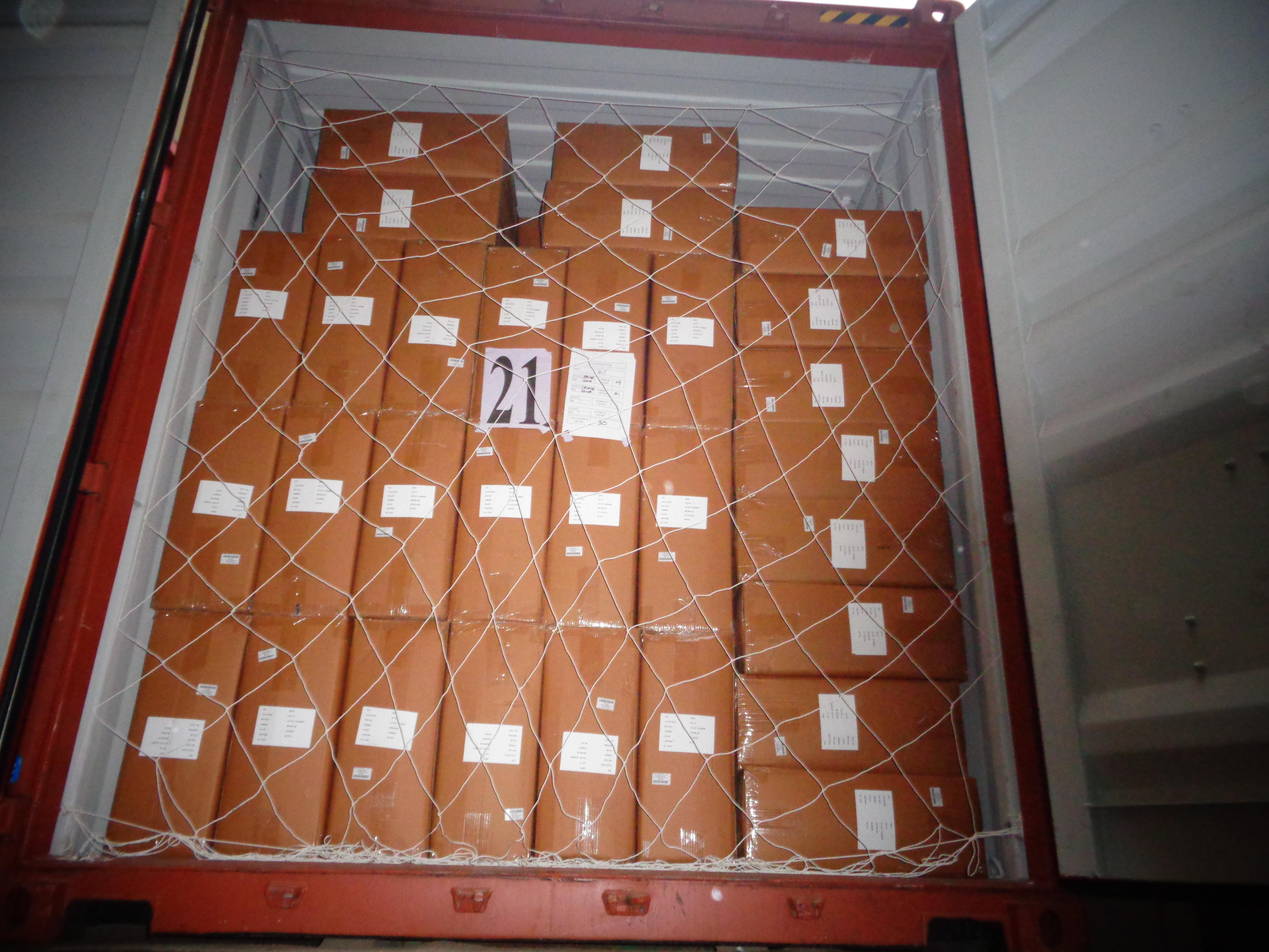carton: (107, 612, 250, 852), (215, 616, 350, 853), (326, 619, 446, 851), (431, 622, 548, 859), (152, 403, 283, 611), (741, 767, 983, 876), (252, 405, 377, 616), (534, 628, 640, 860), (353, 409, 467, 620), (638, 630, 736, 862), (740, 582, 966, 682), (736, 675, 962, 775), (449, 426, 555, 622), (735, 494, 955, 588), (637, 427, 733, 639), (204, 231, 318, 407), (545, 424, 642, 628), (294, 233, 402, 408), (382, 239, 487, 415), (734, 416, 943, 502), (471, 248, 568, 425), (555, 248, 650, 425), (735, 347, 936, 426), (736, 272, 931, 352), (646, 255, 736, 428), (305, 170, 514, 244), (542, 180, 735, 259), (737, 206, 926, 280), (316, 109, 511, 180), (552, 122, 738, 189)
